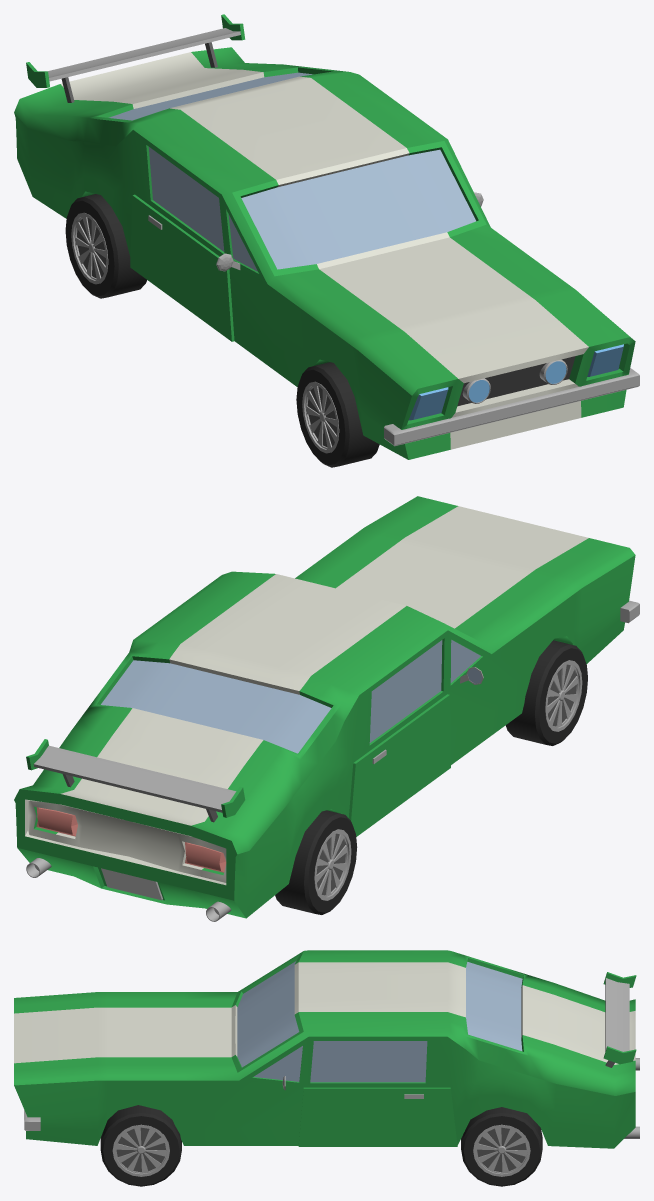
File: Car_03.fbx
The picture shows the model from 3 angles, top to bottom: view 1: azimuth 30°, elevation 25°; view 2: azimuth 150°, elevation 25°; view 3: azimuth 270°, elevation 25°; orthographic projection. The views are drawn at different scales.
Parts seen in each view (by area): view 1: Car_Merged2, Tire_Front_Right, Tire_Back_Left1; view 2: Car_Merged2, Tire_Back_Left1, Tire_Front_Right; view 3: Car_Merged2, Tire_Front_Left, Tire_Back_Left.
Part boxes in pixels (x1,y1,x2,y2): Car_Merged2: [14, 14, 639, 459]; Tire_Front_Right: [296, 362, 379, 467]; Tire_Back_Left1: [65, 194, 146, 298]; Car_Merged2: [14, 496, 639, 921]; Tire_Back_Left1: [275, 810, 357, 914]; Tire_Front_Right: [505, 640, 587, 745]; Car_Merged2: [14, 950, 639, 1148]; Tire_Front_Left: [100, 1105, 181, 1186]; Tire_Back_Left: [461, 1107, 542, 1186].
Bounding box in the file's own units: 4.89 × 3.45 × 12.7.
